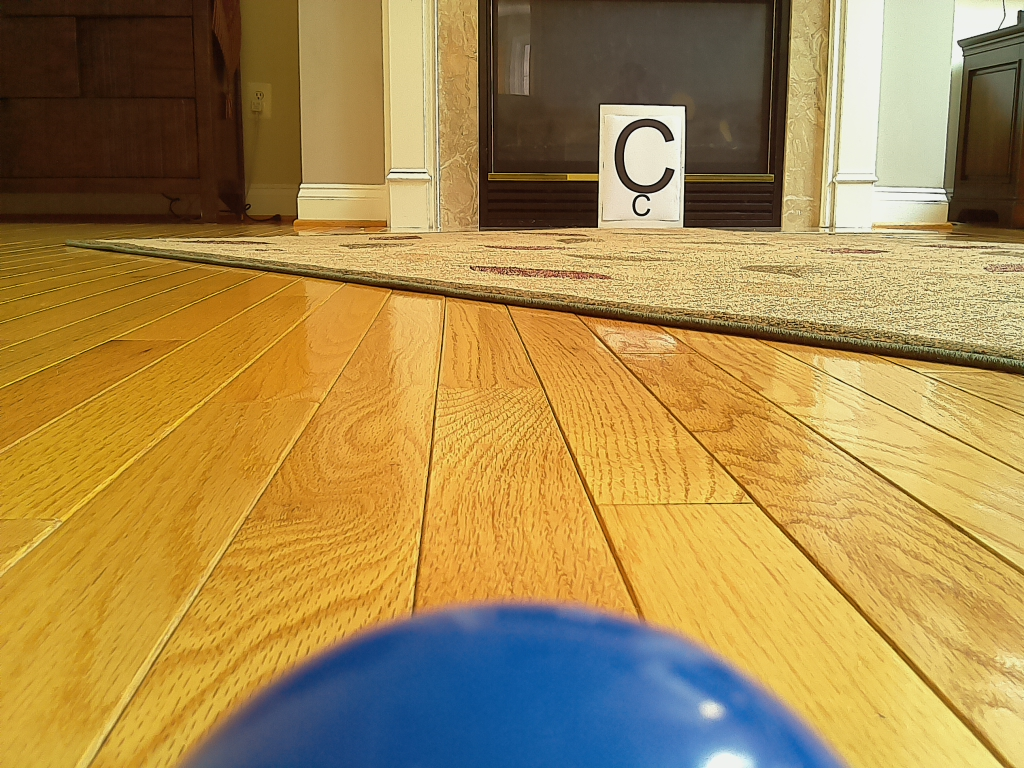letter: (613, 119, 675, 194)
